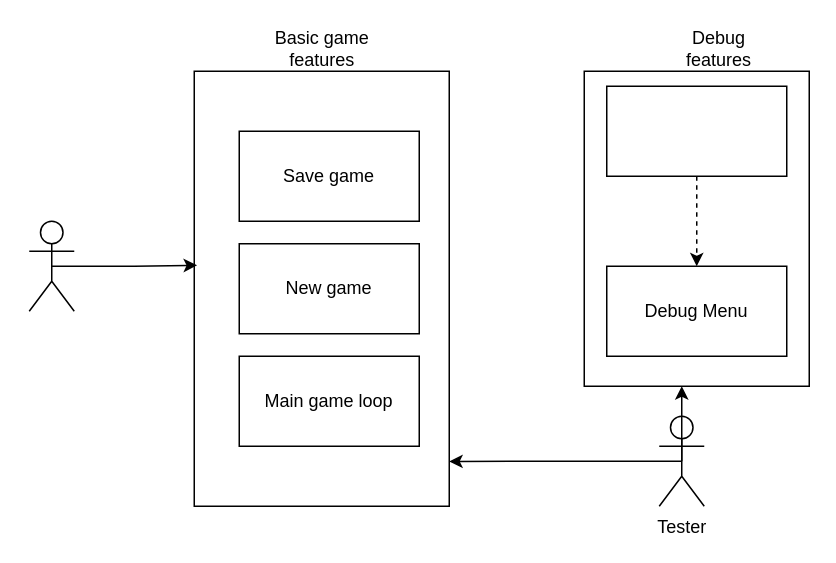
This 836x563 diagram has some shape labels left out. Each missing label, with the centre of its shape:
"Login" belongs at point (696, 130).
"Player" belongs at point (51, 265).
